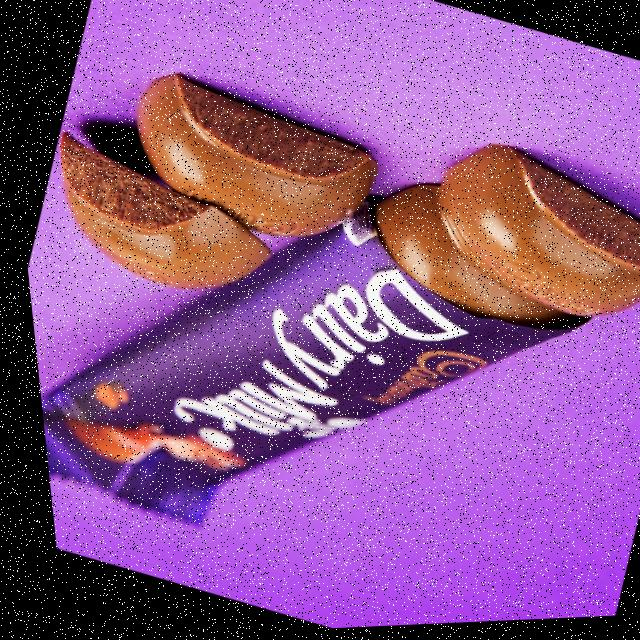cadbury: (2, 4, 640, 640)
